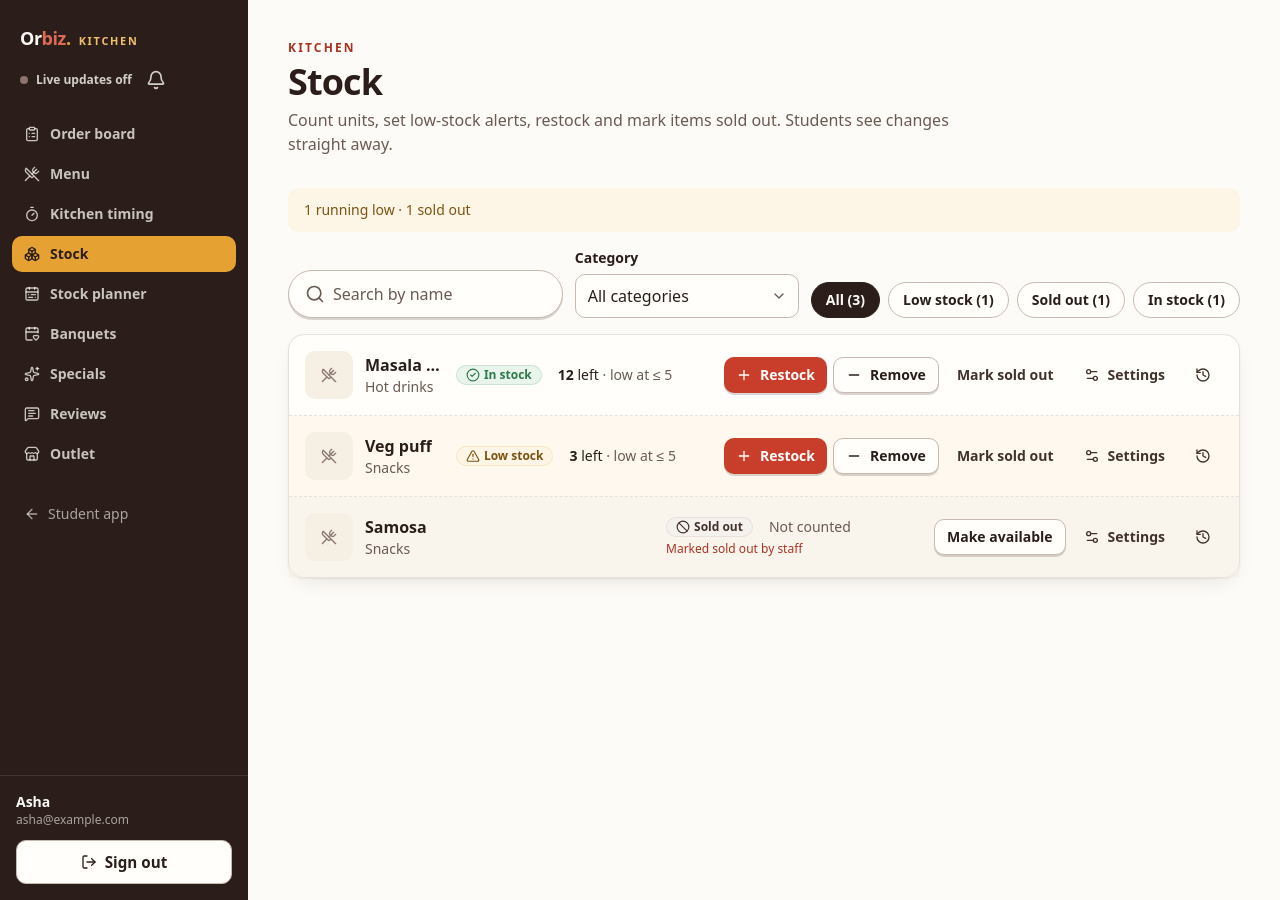
Test: stock management (manager) › shows the item’s stock history
The image size is (1280, 900).
Click the button named "Stock history for Masala chai": (1203, 375) [1183, 357, 1223, 393]
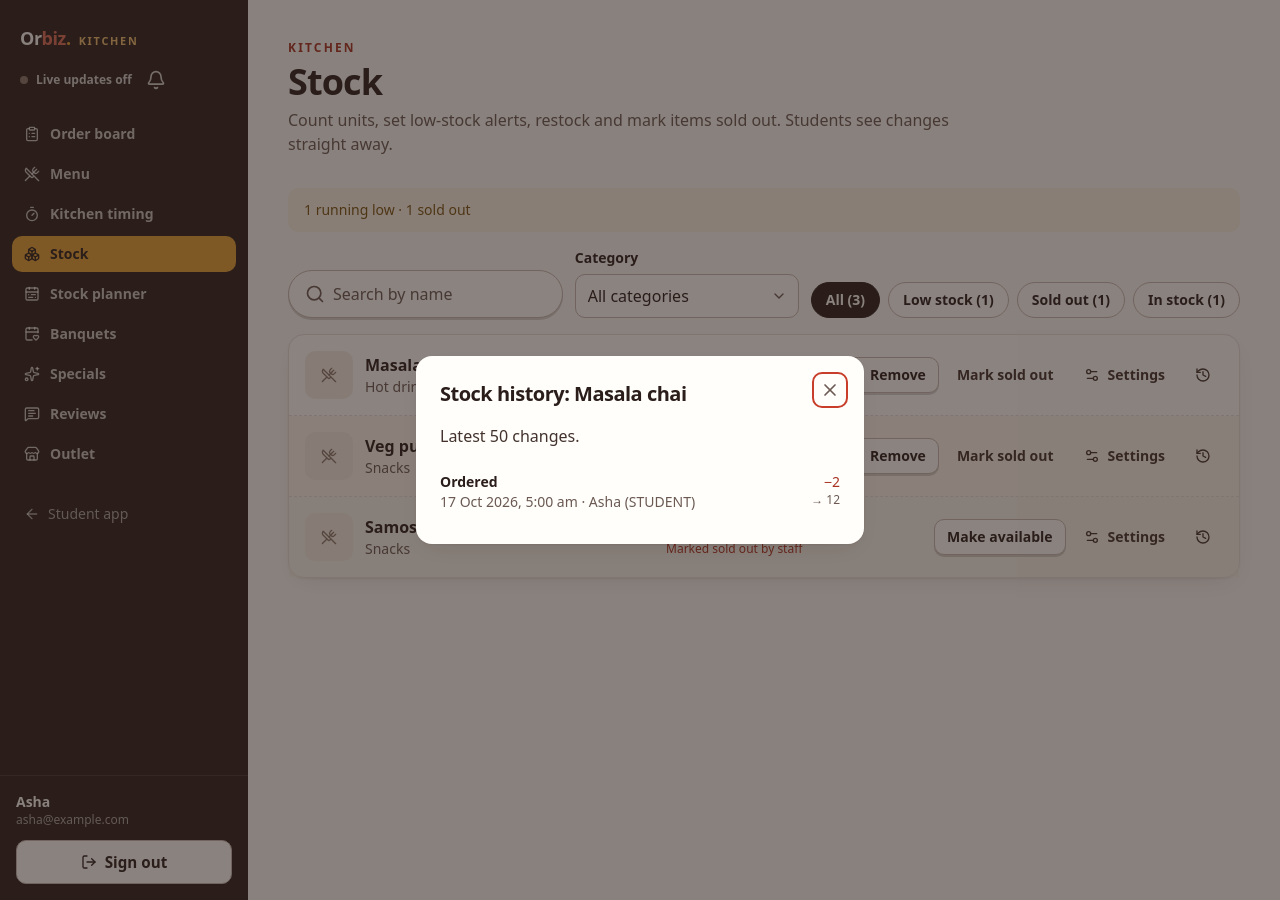
Result: the list named "Stock changes" shows "Ordered" at [440, 472, 498, 491]
Result: the list named "Stock changes" shows "−2" at [440, 464, 840, 520]
Result: the list named "Stock changes" shows "→ 12" at [440, 464, 840, 520]
